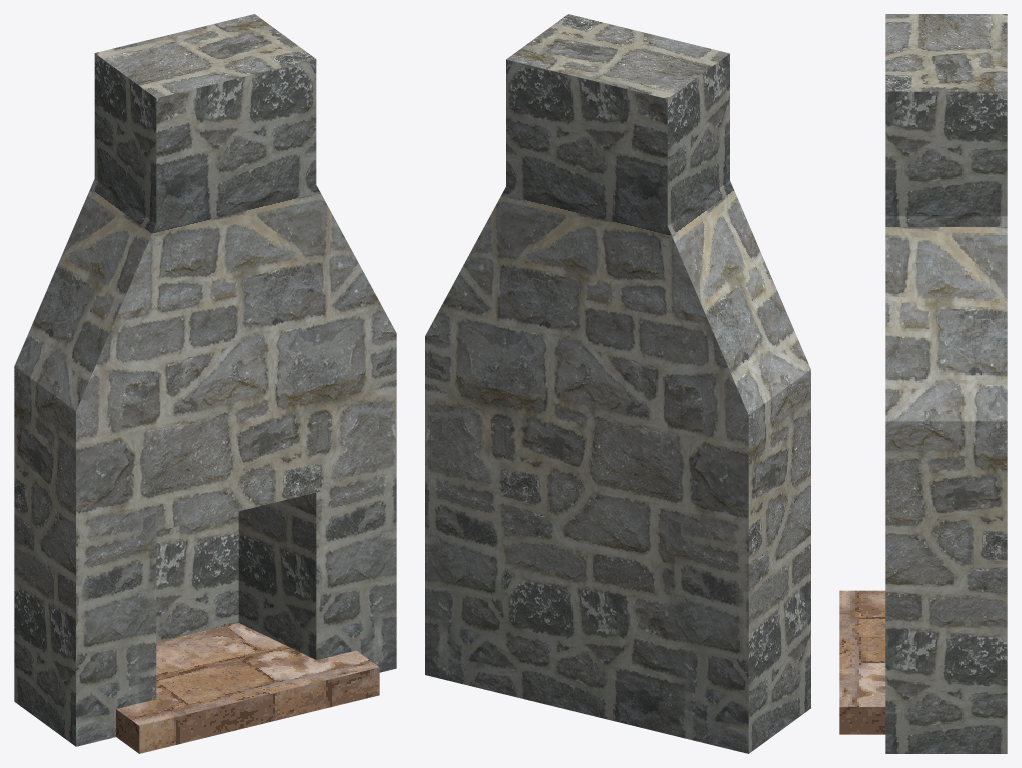
Rendered from fireplace.glb.
3 views of the same model, side by side, from view 1: azimuth 30°, elevation 25°; view 2: azimuth 150°, elevation 25°; view 3: azimuth 270°, elevation 25° (orthographic).
Visible parts, largest first — view 1: Fireplace; view 2: Fireplace; view 3: Fireplace.
Part boxes in pixels (bbox=[...]): Fireplace: bbox=[14, 14, 396, 753]; Fireplace: bbox=[425, 14, 810, 753]; Fireplace: bbox=[839, 14, 1007, 753].
Bounding box in the file's own units: 1.2 × 2.25 × 0.55.
2 materials, 2 textured.
